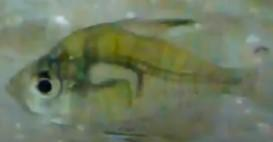Glass Perchlet: (6, 14, 273, 142)
